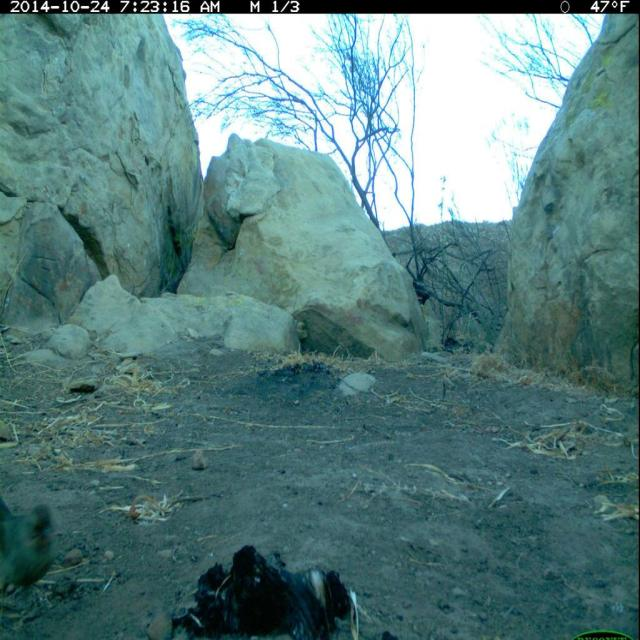bird: (1, 487, 70, 614)
